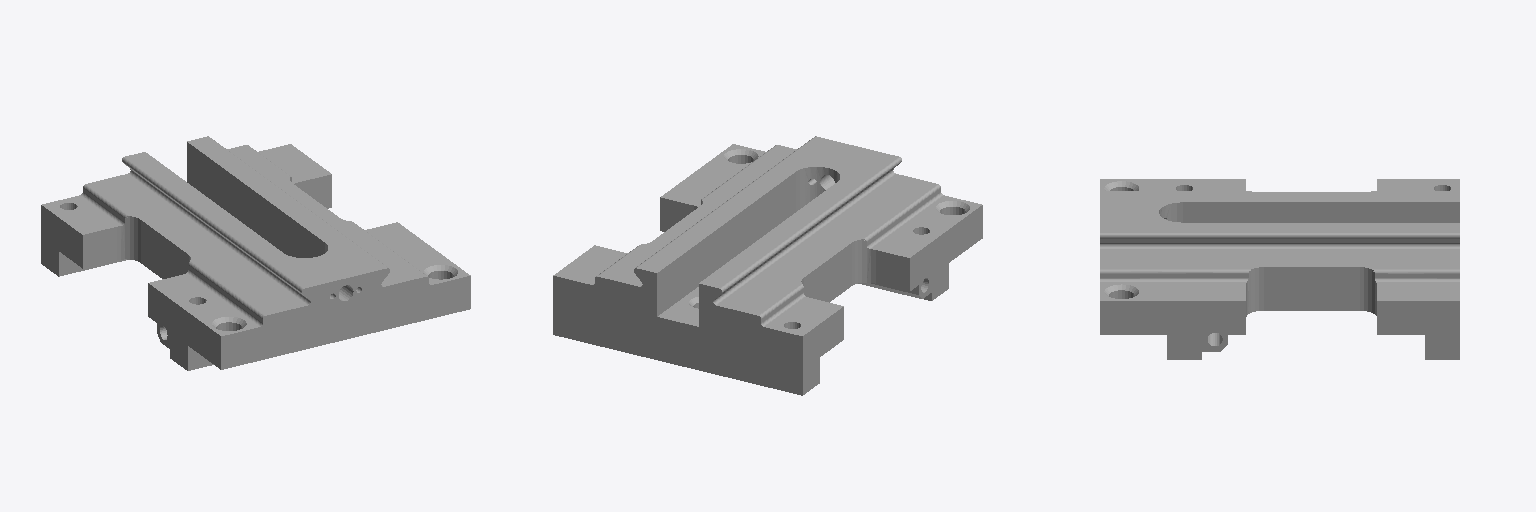
The model's file is seci_prob8.obj.
The picture shows the model from 3 angles: view 1: azimuth 30°, elevation 25°; view 2: azimuth 150°, elevation 25°; view 3: azimuth 270°, elevation 25°; orthographic projection.
Visible parts, largest first — view 1: SecI_Prob8; view 2: SecI_Prob8; view 3: SecI_Prob8.
Boxes of the visible parts, box(x1,y1,x2,y2) form: SecI_Prob8: box(41, 136, 470, 370); SecI_Prob8: box(553, 136, 982, 395); SecI_Prob8: box(1100, 179, 1459, 359).
Size of the model in its own units: 0.132 by 0.044 by 0.165.